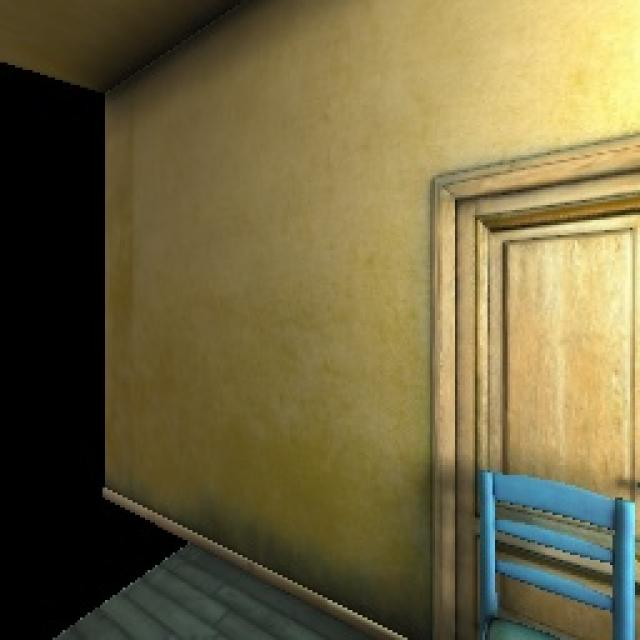door: (425, 147, 640, 640)
